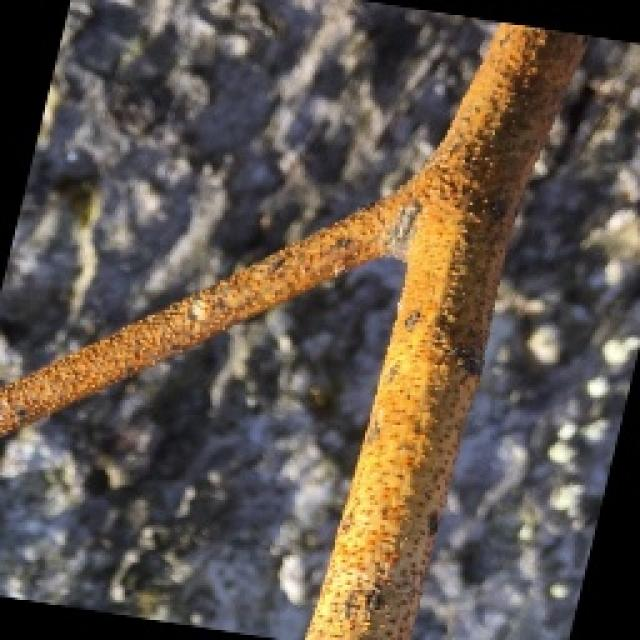Golden_canker: (2, 12, 586, 640)
